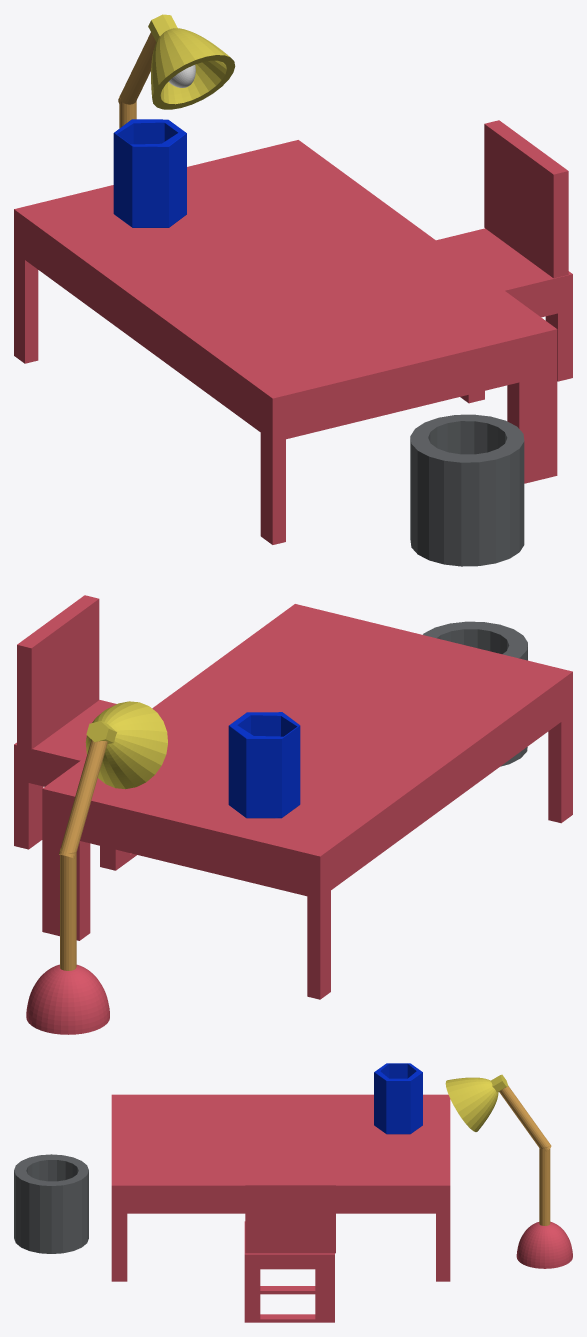
The model's file is Class 150.glb.
3 views of the same model, one above another, from view 1: azimuth 30°, elevation 25°; view 2: azimuth 150°, elevation 25°; view 3: azimuth 270°, elevation 25° (orthographic). The views are drawn at different scales.
Parts seen in each view (by area): view 1: Mesh_Mesh_head_geo.001_lambert2SG.001; view 2: Mesh_Mesh_head_geo.001_lambert2SG.001; view 3: Mesh_Mesh_head_geo.001_lambert2SG.001.
Part boxes in pixels (x1,y1,x2,y2): Mesh_Mesh_head_geo.001_lambert2SG.001: (14, 14, 572, 566); Mesh_Mesh_head_geo.001_lambert2SG.001: (14, 595, 572, 1034); Mesh_Mesh_head_geo.001_lambert2SG.001: (14, 1063, 572, 1322).
Bounding box in the file's own units: 81 × 53.6 × 149.
